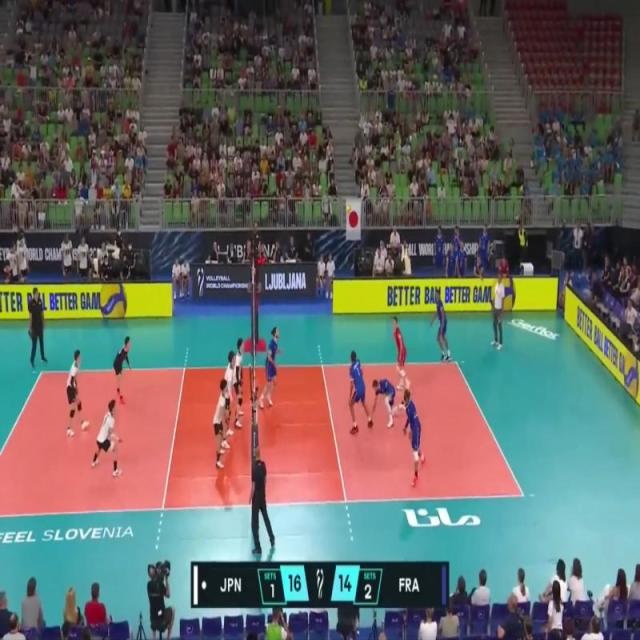volleyball: (344, 202, 352, 215)
